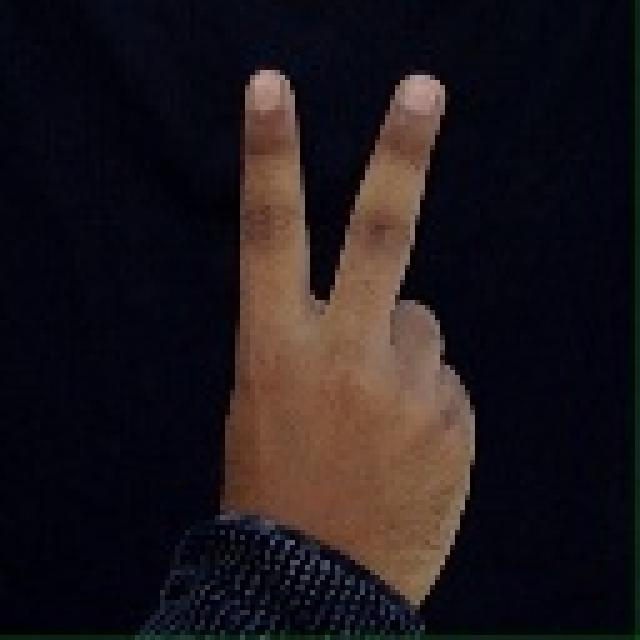Alphabet-V: (185, 46, 501, 618)
